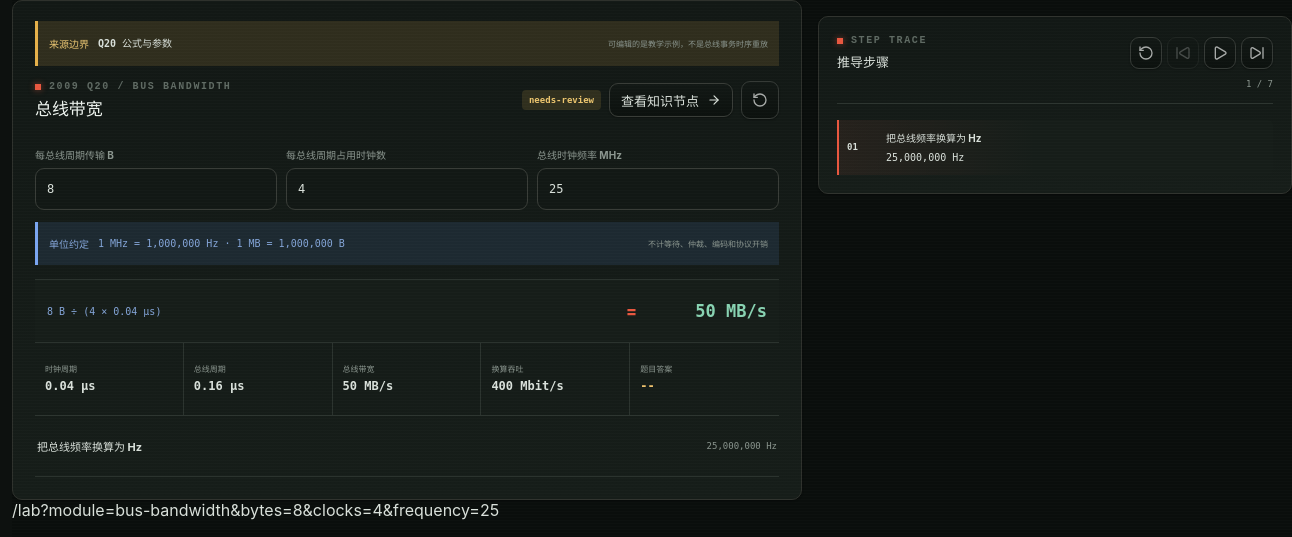
Test case: BusBandwidthLabPanel › restores custom parameters from the URL and writes edits back to it
Check: the number field labelled "每总线周期传输 B" holds "8", box [35,168,277,210]
Check: the element named "总线带宽 MB/s" shows "50 MB/s", box [333,343,481,415]
Replace the text in the number field labelled "总线时钟频率 MHz" with "20": (658, 189) [537,168,779,210]
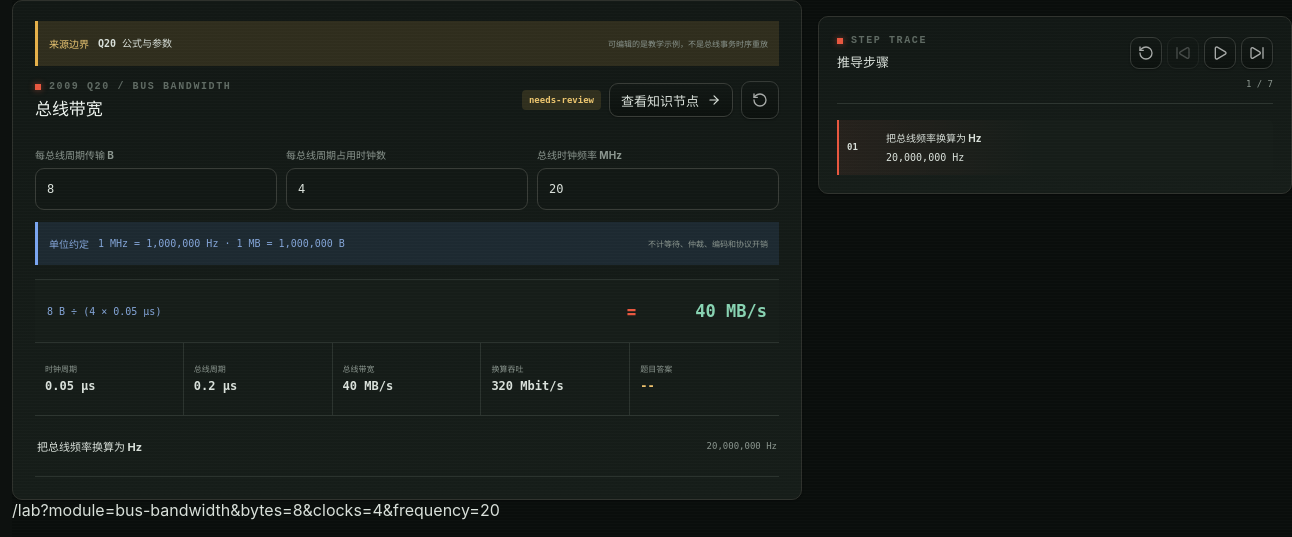
Check: the text named "current URL" shows "module=bus-bandwidth", box [12,500,500,520]
Check: the text named "current URL" shows "frequency=20", box [12,500,500,520]
